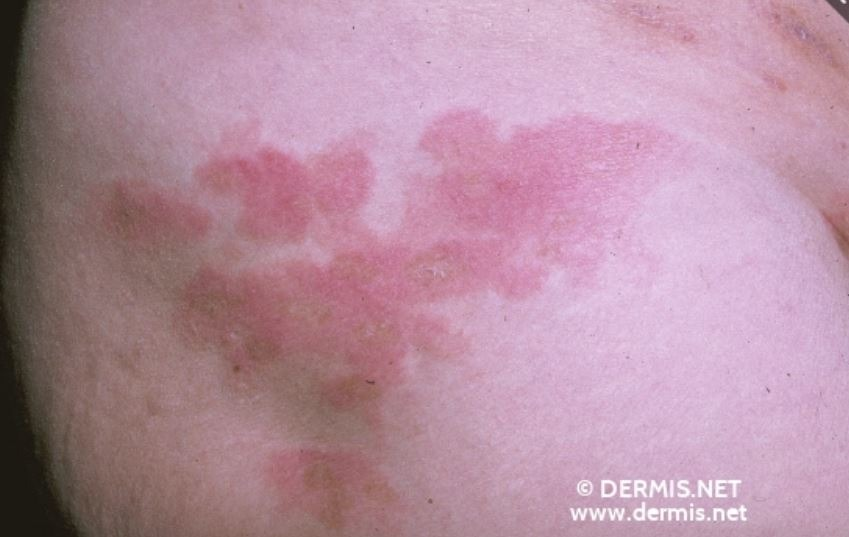Psoriasis: (193, 100, 709, 435), (193, 128, 384, 248), (241, 436, 407, 533), (89, 156, 206, 258)
